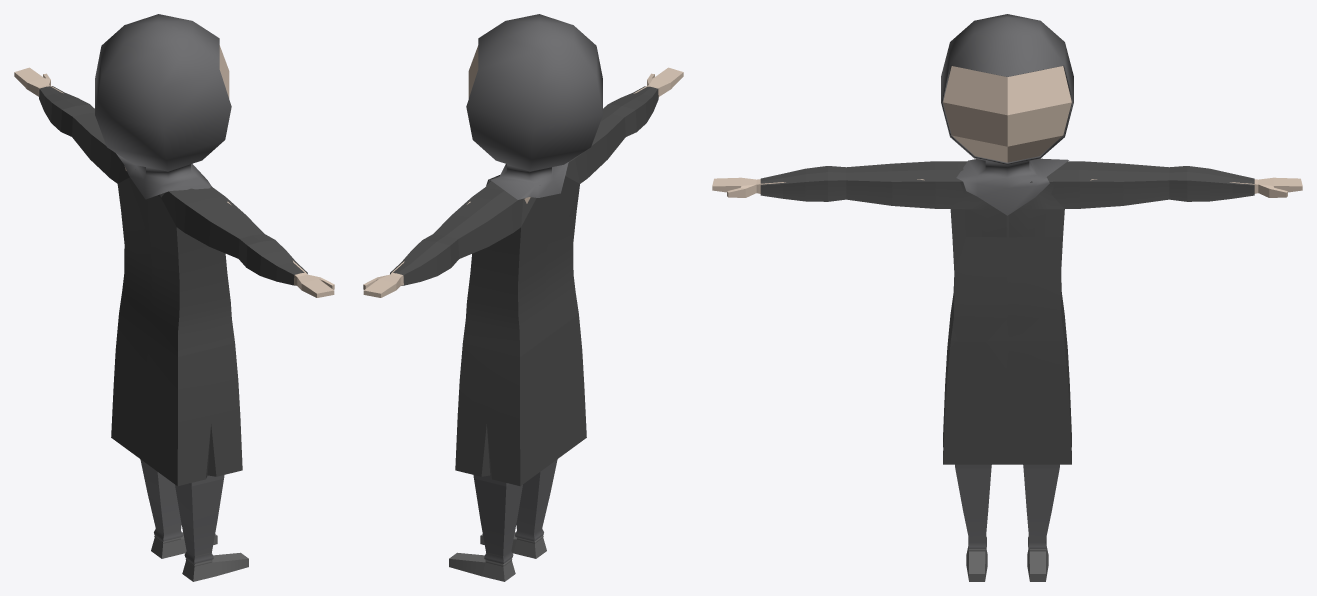
Rendered from child_2.fbx.
3 views of the same model, side by side, from view 1: azimuth 30°, elevation 25°; view 2: azimuth 150°, elevation 25°; view 3: azimuth 270°, elevation 25° (orthographic). The views are drawn at different scales.
Parts seen in each view (by area): view 1: polySurface17, polySurface18, group7_pCube9, pSphere3; view 2: polySurface17, polySurface18, group7_pCube9, pSphere3; view 3: polySurface17, polySurface18, pSphere3, group7_pCube9.
Boxes of the visible parts, x1,y1,x2,y2 form: polySurface17: (39, 86, 307, 486); polySurface18: (95, 14, 231, 563); group7_pCube9: (151, 532, 248, 581); pSphere3: (14, 45, 334, 297); polySurface17: (390, 86, 658, 486); polySurface18: (466, 14, 602, 563); group7_pCube9: (449, 532, 546, 581); pSphere3: (363, 45, 683, 297); polySurface17: (760, 161, 1254, 464); polySurface18: (941, 14, 1073, 548); pSphere3: (712, 66, 1302, 197); group7_pCube9: (966, 546, 1048, 581).
Size of the model in its own units: 2.8 by 11 by 10.91.
